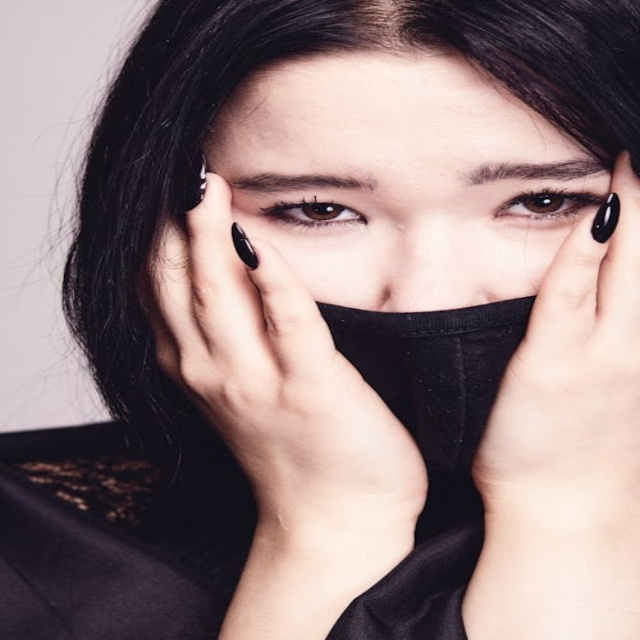Mascara: (308, 267, 538, 523)
Sin_gafas: (232, 153, 595, 227)
Sin_guantes: (142, 159, 410, 502), (475, 135, 637, 482)
